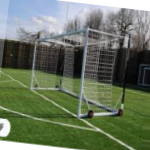goals: (27, 27, 122, 121)
